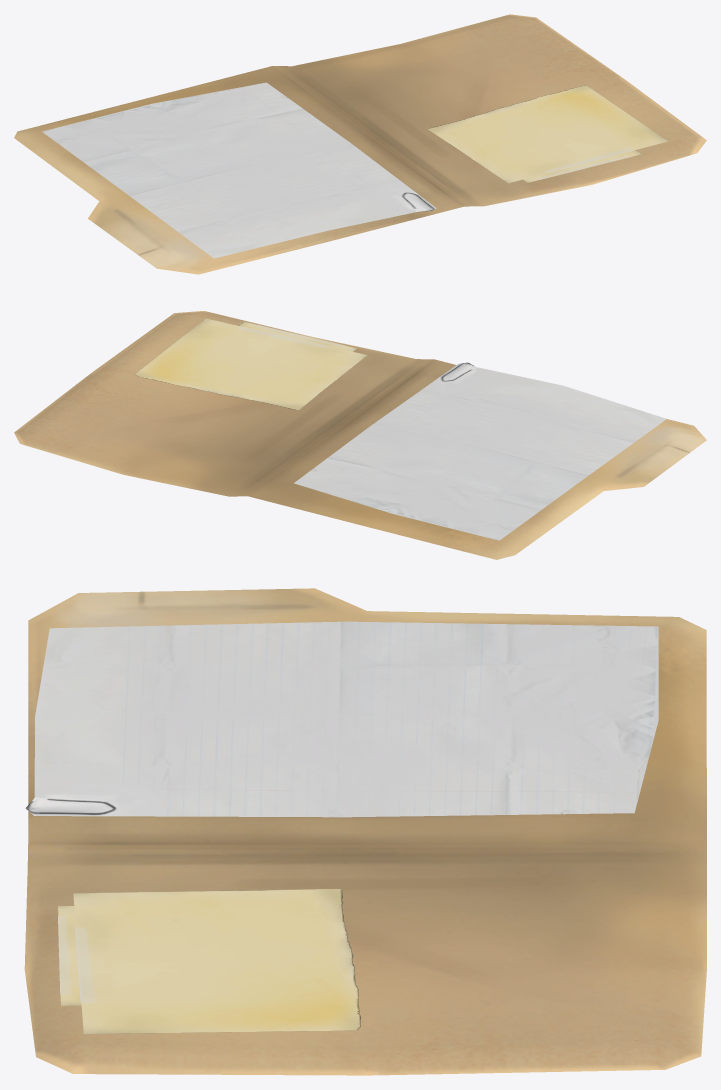
Rendered from DossierMenu.fbx.
3 views of the same model, one above another, from view 1: azimuth 30°, elevation 25°; view 2: azimuth 150°, elevation 25°; view 3: azimuth 270°, elevation 25° (orthographic). The views are drawn at different scales.
Parts seen in each view (by area): view 1: Page, Front, Back, NoteBacking, NoteBackingNonVR; view 2: Page, Front, Back, NoteBacking, NoteBackingNonVR; view 3: Page, Front, Back, NoteBacking, NoteBackingNonVR.
Part boxes in pixels (x1,y1,x2,y2): Page: (42, 82, 436, 258); Front: (273, 14, 706, 206); Back: (14, 66, 463, 274); NoteBacking: (427, 85, 668, 183); NoteBackingNonVR: (523, 150, 641, 182); Page: (294, 362, 666, 540); Front: (14, 311, 434, 496); Back: (248, 359, 706, 559); NoteBacking: (135, 318, 366, 410); NoteBackingNonVR: (238, 321, 356, 351); Page: (25, 621, 658, 817); Front: (24, 844, 706, 1075); Back: (28, 588, 706, 844); NoteBacking: (73, 888, 360, 1033); NoteBackingNonVR: (58, 906, 81, 1005).
Bounding box in the file's own units: 0.4948 × 0.0161 × 0.3044.
2 materials, 2 textured.
